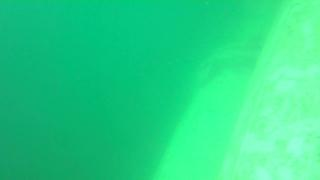pipe: (151, 1, 278, 179), (214, 1, 320, 179)
